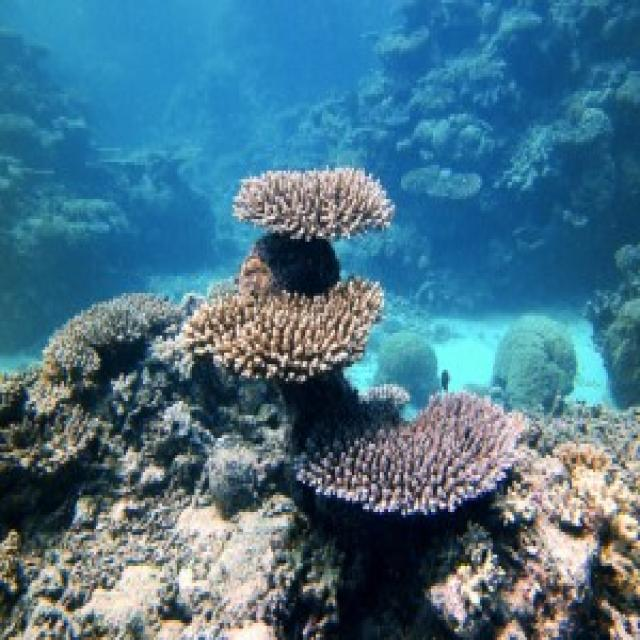Healthy: (430, 408, 639, 638), (14, 490, 295, 638), (295, 388, 526, 513), (180, 280, 383, 379), (42, 294, 180, 382), (234, 169, 394, 237)
